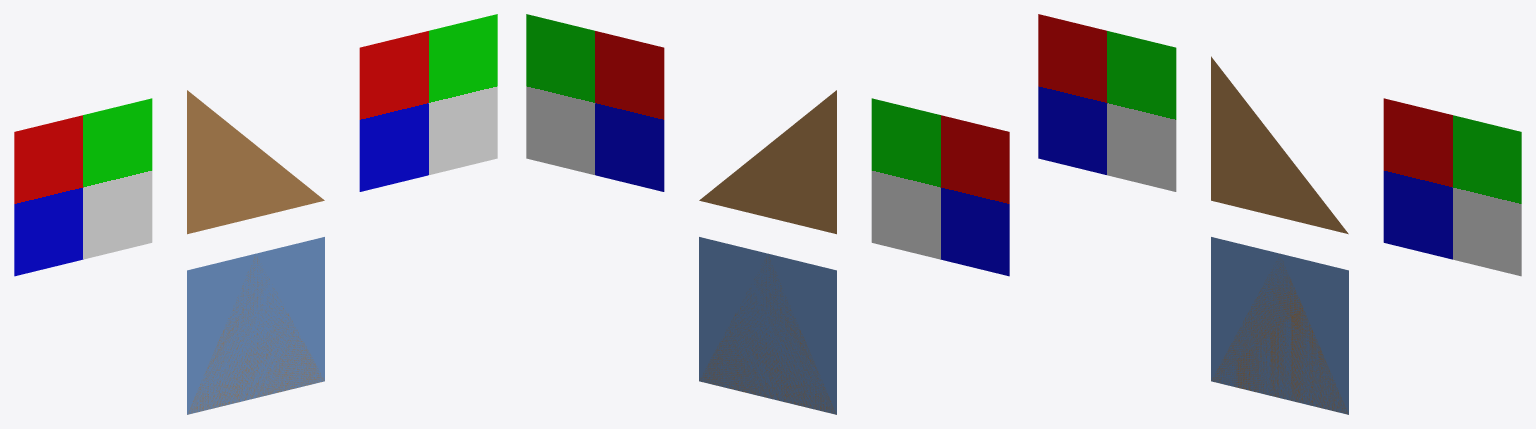
3 renders of one model, left to right at view 1: azimuth 30°, elevation 25°; view 2: azimuth 150°, elevation 25°; view 3: azimuth 330°, elevation 25°, orthographic.
Parts seen in each view (by area): view 1: CheckerNode, LacquerNode, PairNode, CornerNode; view 2: CheckerNode, LacquerNode, PairNode, CornerNode; view 3: LacquerNode, CheckerNode, PairNode, CornerNode.
Part boxes in pixels (box(x1,y1,x2,y2)): CheckerNode: box(14, 98, 152, 276); LacquerNode: box(359, 14, 497, 191); PairNode: box(187, 237, 324, 414); CornerNode: box(187, 90, 324, 234); CheckerNode: box(871, 98, 1009, 276); LacquerNode: box(526, 14, 664, 191); PairNode: box(699, 237, 836, 414); CornerNode: box(699, 90, 836, 234); LacquerNode: box(1383, 98, 1521, 276); CheckerNode: box(1038, 14, 1176, 191); PairNode: box(1211, 237, 1348, 414); CornerNode: box(1211, 56, 1348, 234).
Size of the model in its own units: 5.6 by 3.6 by 0.
Materials: 3 (1 with a texture image).
